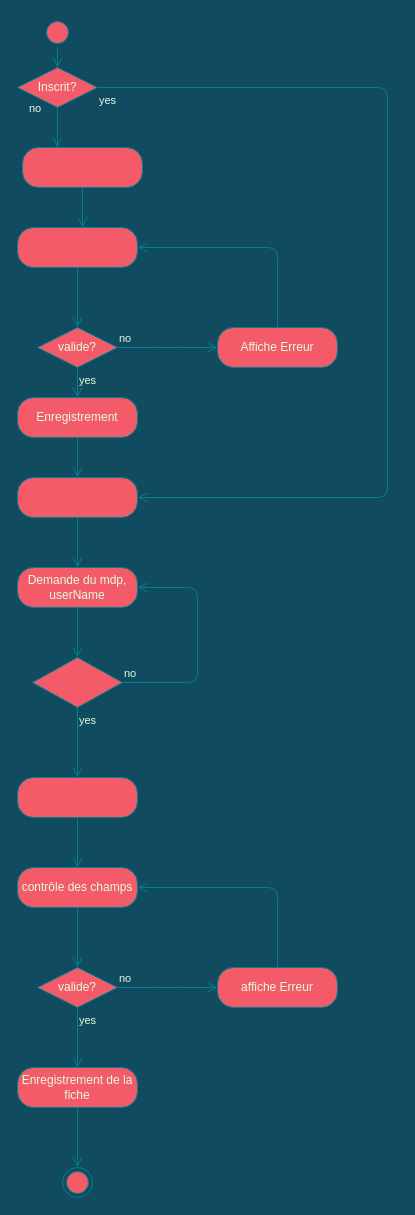
This 415x1215 diagram has some shape labels left out. Here are the shapes that lost their labels. From the top down, the box of each, then its label:
(22, 146, 142, 188): Envoie du formulaire d'inscription
(16, 226, 138, 268): Contrôle du formulaire
(16, 476, 138, 518): Connexion
(32, 656, 122, 708): Connexion réussi
(16, 776, 138, 818): Choix de la fiche besoin/service
